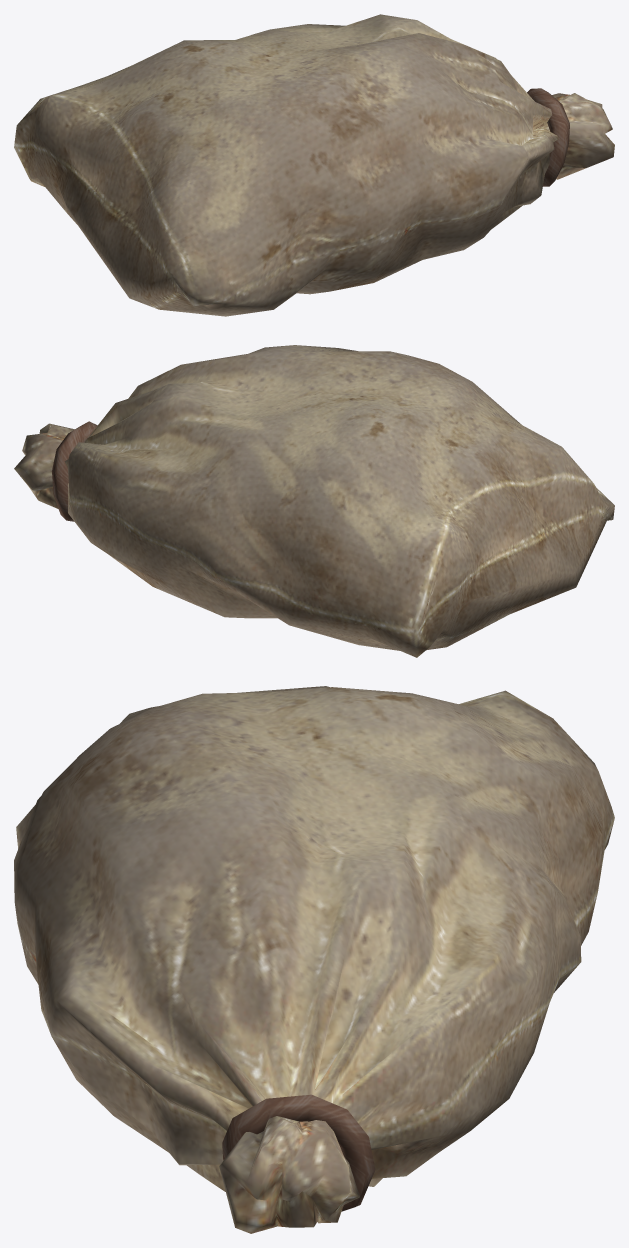
File: SM_Fabric_Sack2.FBX
The picture shows the model from 3 angles, top to bottom: view 1: azimuth 30°, elevation 25°; view 2: azimuth 150°, elevation 25°; view 3: azimuth 270°, elevation 25°; orthographic projection. The views are drawn at different scales.
Visible parts, largest first — view 1: FabricSack2; view 2: FabricSack2; view 3: FabricSack2.
Boxes of the visible parts, x1,y1,x2,y2 form: FabricSack2: (14, 14, 614, 316); FabricSack2: (14, 345, 614, 657); FabricSack2: (14, 686, 614, 1233).
Size of the model in its own units: 102 by 37.85 by 67.03.
1 material, 1 textured.
